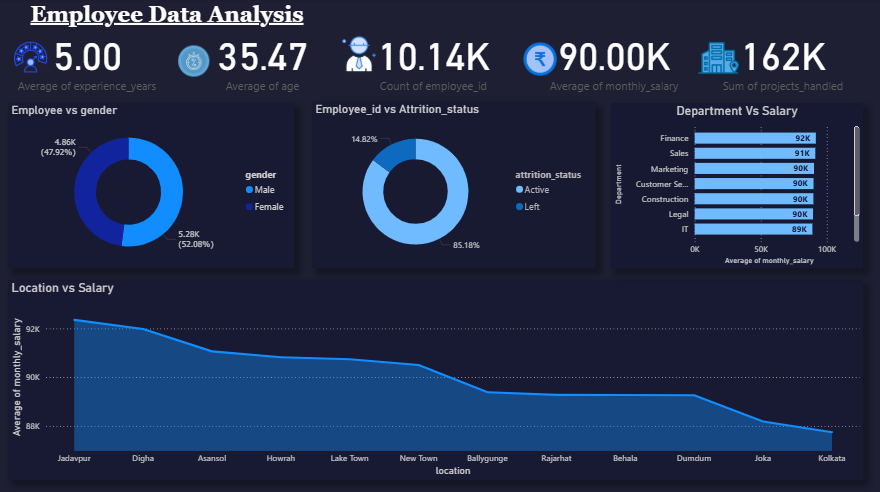

Layout of this report page (visuals, bound fields, positions):
{"tool":"powerbi","page":{"name":"Page 1","canvas":[1280,720],"ordinal":0},"visuals":[{"type":"card","fields":{"Values":["Avg(Srijan_emp.experience_years)"]},"box":[24.6,27.5,214,122.9],"z":0},{"type":"card","fields":{"Values":["Avg(Srijan_emp.monthly_salary)"]},"box":[773.5,24.6,240,127.2],"z":1},{"type":"card","fields":{"Values":["Count(Srijan_emp.employee_id)"]},"box":[504.6,24.6,255.9,127.2],"z":2},{"type":"card","fields":{"Values":["Avg(Srijan_emp.age)"]},"box":[261.7,27.5,247.2,122.9],"z":3},{"type":"image","box":[741.7,59.3,89.6,57.8],"z":5},{"type":"image","box":[241.4,63.6,88.2,54.9],"z":6},{"type":"image","box":[13,56.4,73.7,57.8],"z":7},{"type":"donutChart","title":"Employee vs gender","fields":{"Category":["Srijan_emp.gender"],"Y":["Count(Srijan_emp.employee_id)"]},"box":[17.3,151.8,413.5,238.6],"z":9},{"type":"areaChart","title":"Location vs Salary","fields":{"Category":["Srijan_emp.location"],"Y":["Avg(Srijan_emp.monthly_salary)"]},"box":[17.3,407.7,1236.1,289.2],"z":11},{"type":"donutChart","title":"Employee_id vs Attrition_status","fields":{"Category":["Srijan_emp.attrition_status"],"Y":["CountNonNull(Srijan_emp.employee_id)"]},"box":[456.9,150.4,409.2,240],"z":12},{"type":"clusteredBarChart","title":"Department Vs Salary","fields":{"Category":["Srijan_emp.department"],"Y":["Avg(Srijan_emp.monthly_salary)"]},"box":[889.2,151.8,364.3,238.6],"z":13},{"type":"card","fields":{"Values":["Sum(Srijan_emp.projects_handled)"]},"box":[1036.6,27.5,202.4,122.9],"z":14},{"type":"image","box":[1009.2,52,70.8,69.4],"z":15},{"type":"textbox","box":[24.6,0,445.3,49.2],"z":16},{"type":"image","box":[493,50.6,63.6,62.2],"z":17}]}

Visuals, with their boxes in screenshot pixels (x1, y1, x2, y2), scaled from the page's 1280x720 canvas onto the 880x492 screenshot:
card - Avg(Srijan_emp.experience_years): region(17, 19, 164, 103)
card - Avg(Srijan_emp.monthly_salary): region(532, 17, 697, 104)
card - Count(Srijan_emp.employee_id): region(347, 17, 523, 104)
card - Avg(Srijan_emp.age): region(180, 19, 350, 103)
image: region(510, 41, 572, 80)
image: region(166, 43, 227, 81)
image: region(9, 39, 60, 78)
"Employee vs gender" donutChart: region(12, 104, 296, 267)
"Location vs Salary" areaChart: region(12, 279, 862, 476)
"Employee_id vs Attrition_status" donutChart: region(314, 103, 595, 267)
"Department Vs Salary" clusteredBarChart: region(611, 104, 862, 267)
card - Sum(Srijan_emp.projects_handled): region(713, 19, 852, 103)
image: region(694, 36, 742, 83)
textbox: region(17, 0, 323, 34)
image: region(339, 35, 383, 77)
